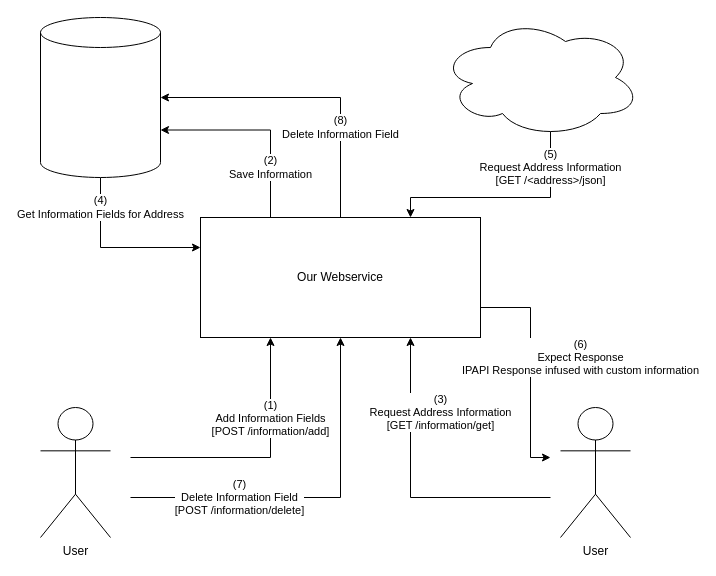
Some shapes in this 716 by 576 pixel diagram are drawn without their labels. The shapes that lost their labels are listed below. From the top down, each one's centre as x and y in pixels, then its label:
(100,97): Database
(540,77): IPAPI
